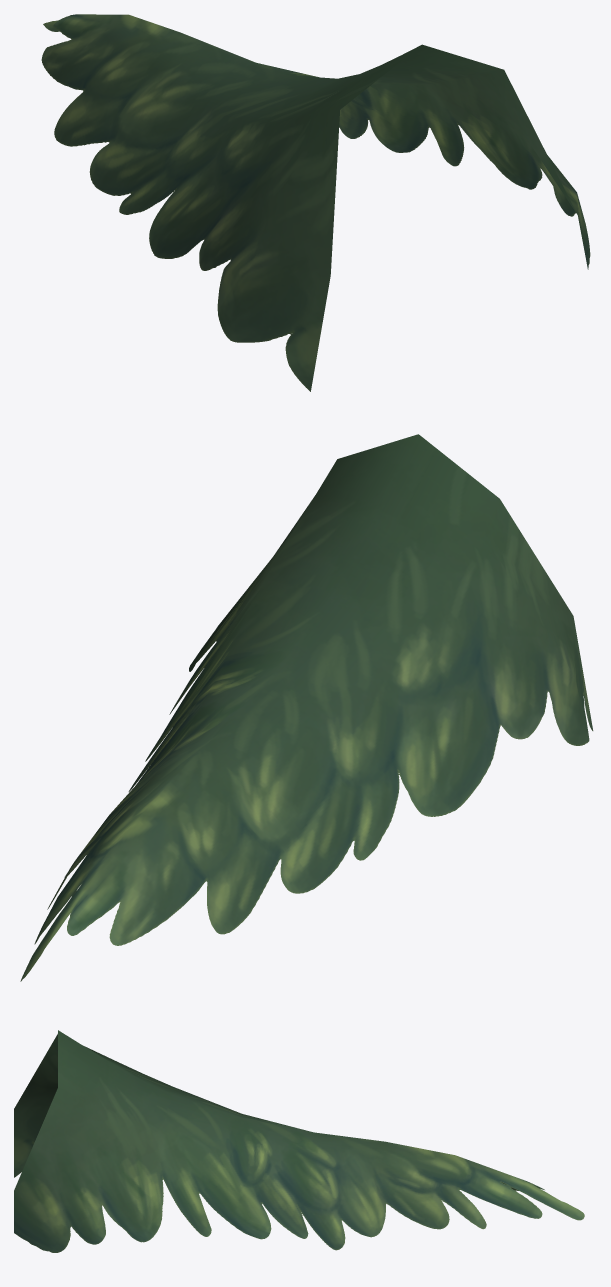
The model's file is branch C.FBX.
3 renders of one model, top to bottom at view 1: azimuth 30°, elevation 25°; view 2: azimuth 150°, elevation 25°; view 3: azimuth 270°, elevation 25°, orthographic. The views are drawn at different scales.
Parts seen in each view (by area): view 1: branch C; view 2: branch C; view 3: branch C.
Boxes of the visible parts, x1=… form: branch C: x1=41, y1=14, x2=590, y2=391; branch C: x1=20, y1=434, x2=593, y2=981; branch C: x1=14, y1=1030, x2=584, y2=1252.
Size of the model in its own units: 286 by 222 by 575.
